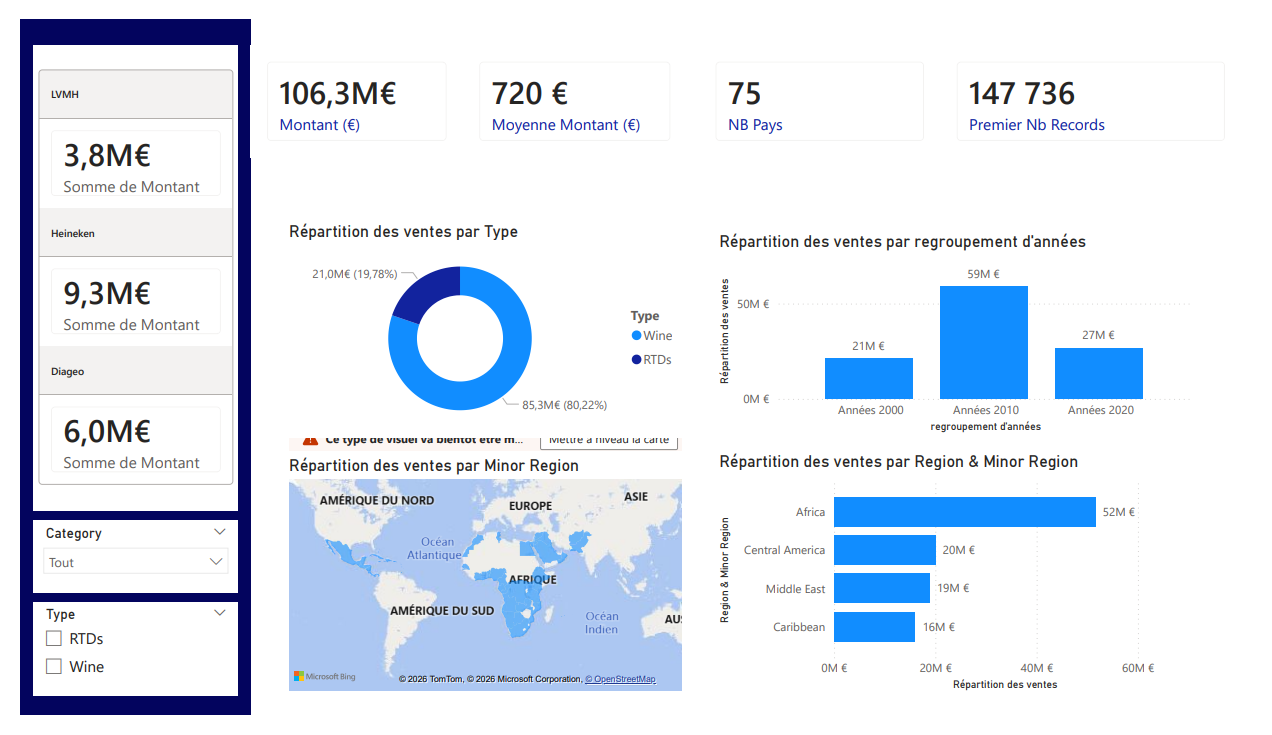

The dashboard page shown, as its layout file describes it:
{"tool":"powerbi","page":{"name":"Page 1","canvas":[1280,720],"ordinal":0},"visuals":[{"type":"textbox","box":[0,0,238.6,720],"z":0},{"type":"slicer","fields":{"Values":["Data.Type"]},"box":[14.3,602.9,211.4,97.1],"z":1000},{"type":"slicer","fields":{"Values":["Data.Category"]},"box":[14.3,518.6,211.4,75.7],"z":2000},{"type":"cardVisual","fields":{"Data":["Avg(Data.Montant)"]},"box":[458.6,27.1,232.9,115.7],"z":3000},{"type":"columnChart","fields":{"Y":["Sum(Data.Montant)"],"Category":["Data.Regroupement Années"]},"box":[720,220,501.4,212.9],"z":4000},{"type":"donutChart","fields":{"Category":["Data.Type"],"Y":["Sum(Data.Montant)"]},"box":[274.3,208.6,417.1,224.3],"z":5000},{"type":"cardVisual","fields":{"Data":["Count(Data.Country)"]},"box":[704.3,27.1,250,115.7],"z":6000},{"type":"cardVisual","fields":{"Data":["Sum(Data.Montant)"]},"box":[238.6,27.1,220,115.7],"z":7000},{"type":"cardVisual","fields":{"Data":["Min(Data.Nb Records)"]},"box":[954.3,27.1,311.4,115.7],"z":8000},{"type":"barChart","fields":{"Y":["Sum(Data.Montant)"],"Category":["Country.Minor Region"]},"box":[720,447.1,501.4,252.9],"z":9000},{"type":"azureMap","fields":{"Category":["Country.Country"]},"box":[274.3,414.3,417.1,285.7],"z":11000},{"type":"cardVisual","fields":{"Data":["Sum(Data.Montant)"],"Rows":["Data.Owner"]},"box":[14.3,27.1,211.4,481.4],"z":12000}]}

Visuals, with their boxes in screenshot pixels (x1, y1, x2, y2), scaled from the page's 1280x720 canvas onto the 1272x735 screenshot:
textbox: <bbox>0, 0, 237, 734</bbox>
slicer - Data.Type: <bbox>14, 615, 224, 715</bbox>
slicer - Data.Category: <bbox>14, 529, 224, 607</bbox>
cardVisual - Avg(Data.Montant): <bbox>456, 28, 687, 146</bbox>
columnChart - Sum(Data.Montant) x Data.Regroupement Années: <bbox>716, 225, 1214, 442</bbox>
donutChart - Data.Type x Sum(Data.Montant): <bbox>273, 213, 687, 442</bbox>
cardVisual - Count(Data.Country): <bbox>700, 28, 948, 146</bbox>
cardVisual - Sum(Data.Montant): <bbox>237, 28, 456, 146</bbox>
cardVisual - Min(Data.Nb Records): <bbox>948, 28, 1258, 146</bbox>
barChart - Sum(Data.Montant) x Country.Minor Region: <bbox>716, 456, 1214, 715</bbox>
azureMap - Country.Country: <bbox>273, 423, 687, 715</bbox>
cardVisual - Sum(Data.Montant) x Data.Owner: <bbox>14, 28, 224, 519</bbox>
